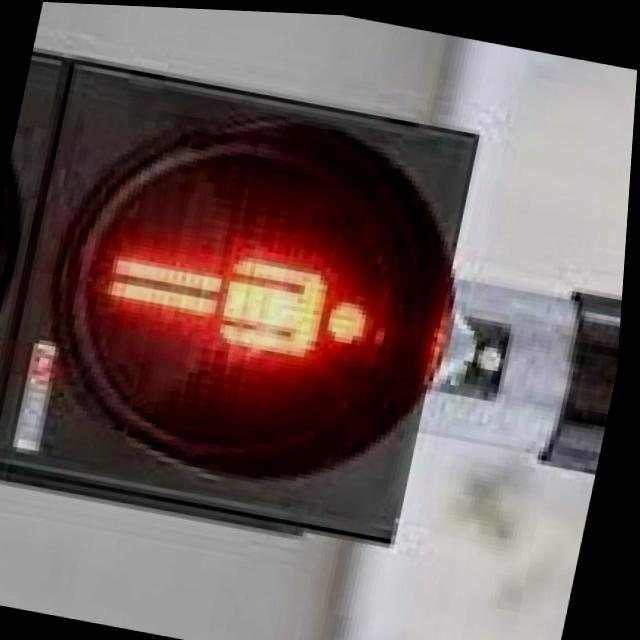red_light: (77, 180, 418, 413)
